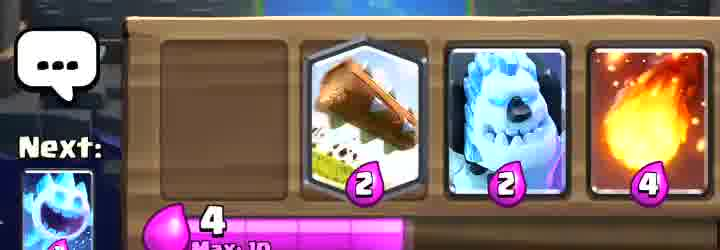fireball: (596, 47, 710, 195)
ice-golem: (447, 53, 561, 198)
ice-spirit: (24, 171, 94, 250)
log: (311, 45, 423, 190)
